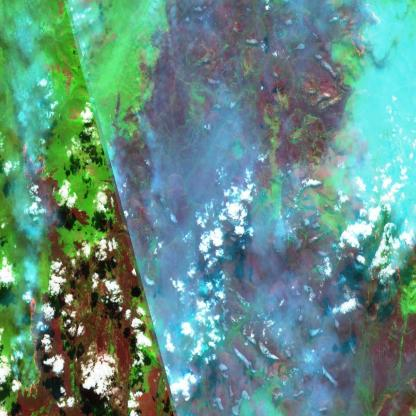fire: (14, 134, 58, 212), (19, 292, 43, 402), (345, 22, 372, 69), (371, 256, 410, 288)
